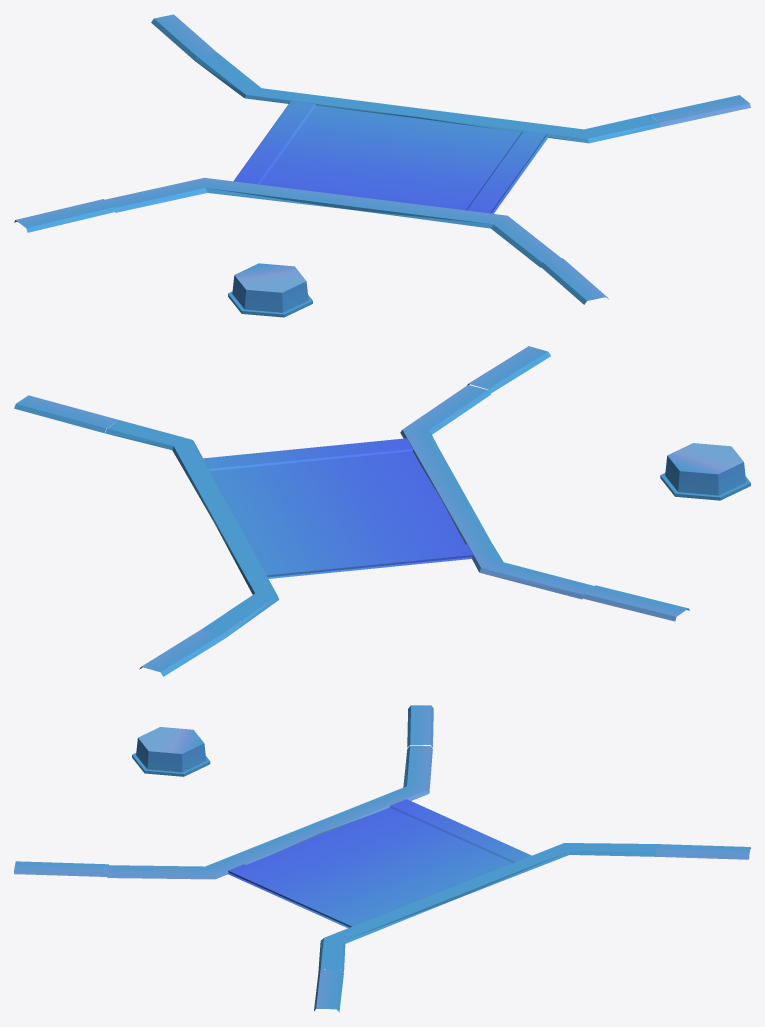
The model's file is Area_09_19.fbx.
The picture shows the model from 3 angles, top to bottom: view 1: azimuth 30°, elevation 25°; view 2: azimuth 150°, elevation 25°; view 3: azimuth 270°, elevation 25°; orthographic projection. The views are drawn at different scales.
Parts seen in each view (by area): view 1: Area_09_19; view 2: Area_09_19; view 3: Area_09_19.
Boxes of the visible parts, bbox=[...] form: Area_09_19: bbox=[14, 14, 750, 317]; Area_09_19: bbox=[14, 346, 750, 676]; Area_09_19: bbox=[14, 705, 750, 1012].
Size of the model in its own units: 3390 by 108 by 3488.
